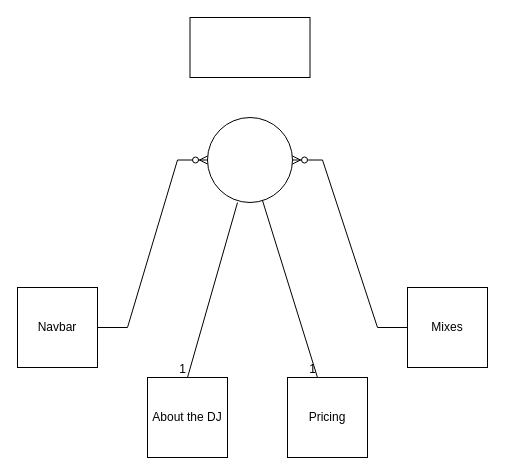
Image size: 505x475. Some labels were removed from this diagram. The shapes that lost their labels are listed below. From the top down, each one's box as (x1, y1, x2, y2) in pixels, then its label:
(189, 16, 310, 78): DJ Page for my partner's business
(206, 116, 292, 202): App.js
